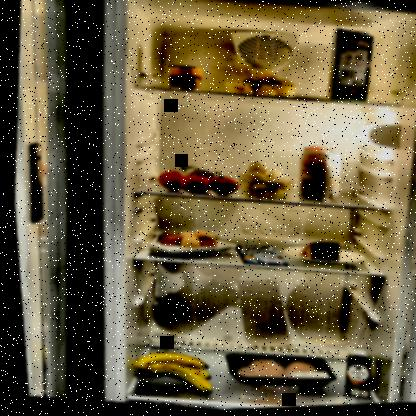banana: (121, 347, 211, 399)
cheese: (292, 240, 339, 267)
chicken: (211, 348, 336, 396)
chocolate: (229, 244, 287, 270)
corn: (162, 62, 203, 94)
eggs: (154, 226, 217, 257)
heavy_cream: (333, 349, 370, 402)
milk: (321, 25, 377, 108)
mushrooms: (232, 160, 294, 200)
potato: (219, 67, 299, 102)
tomato: (152, 153, 239, 200)
